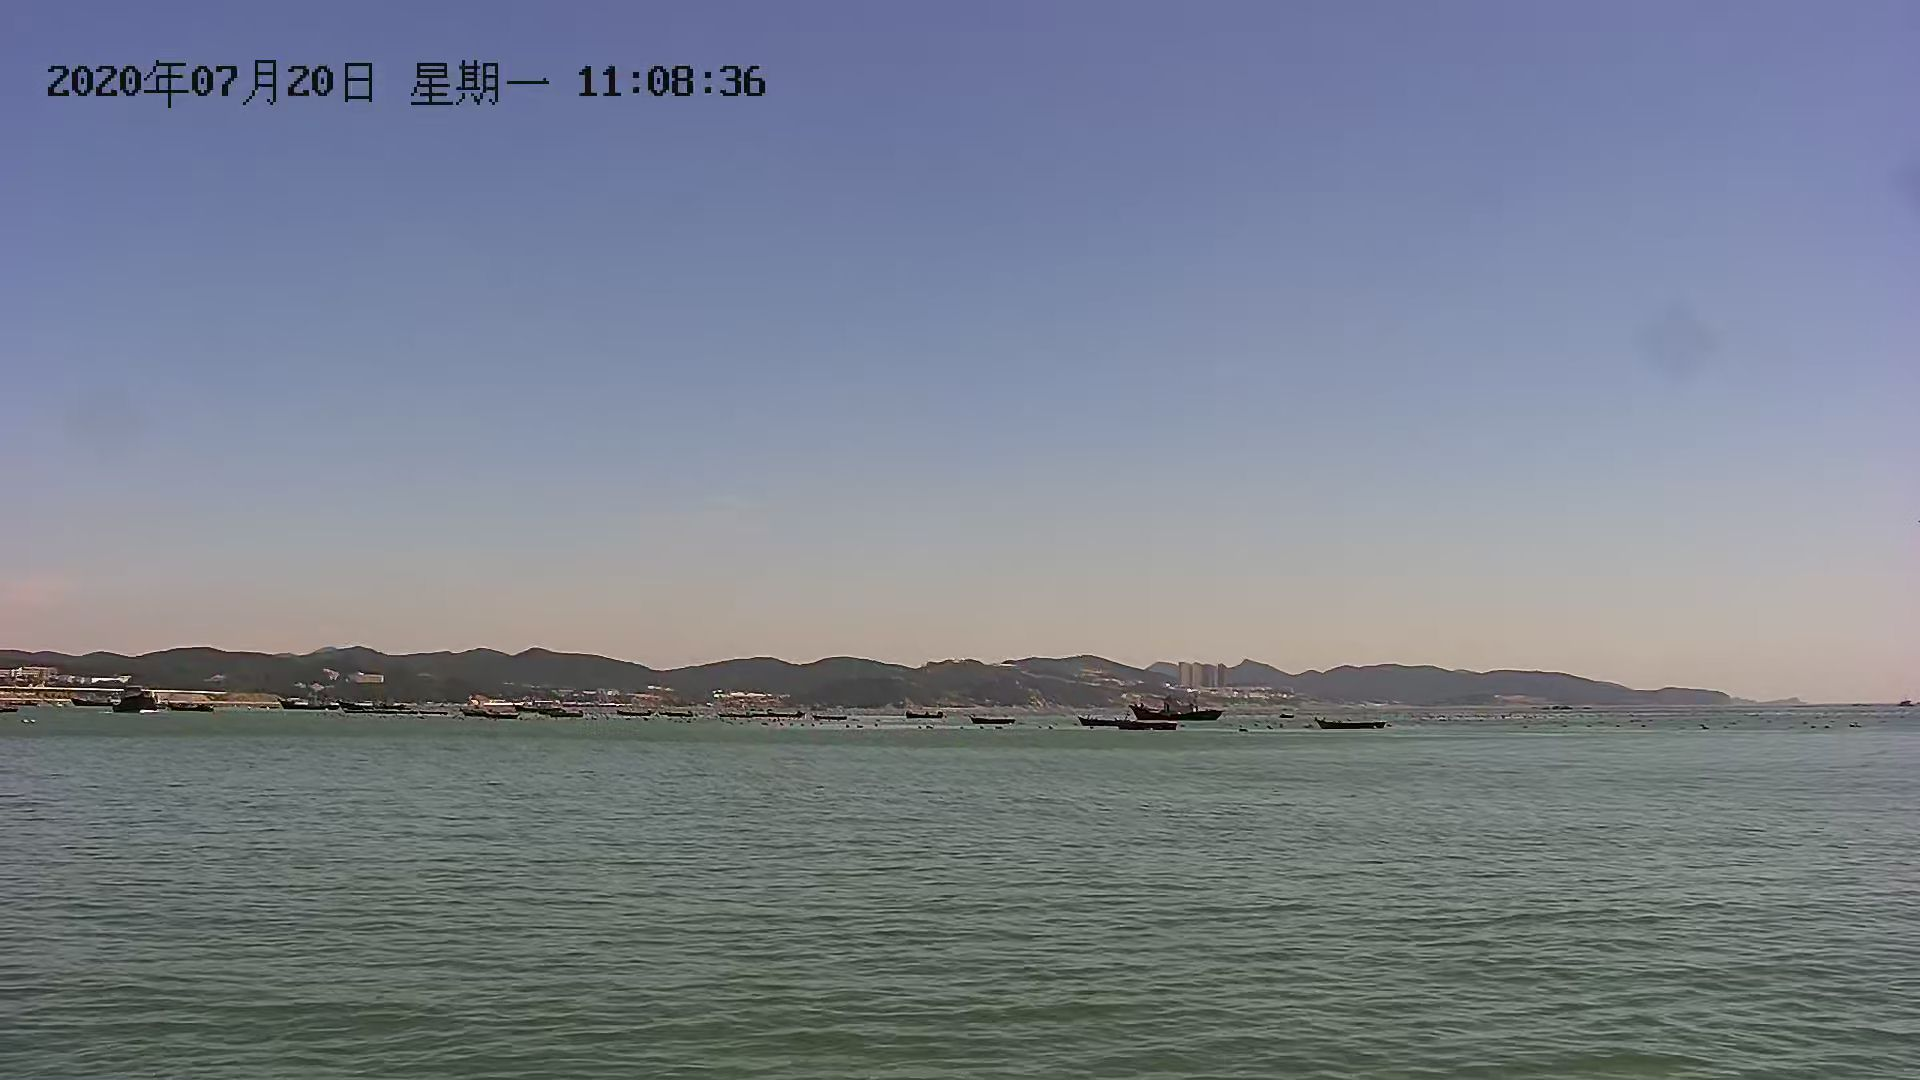boat: (1131, 695, 1232, 725), (1110, 719, 1184, 735), (1313, 716, 1389, 731)
